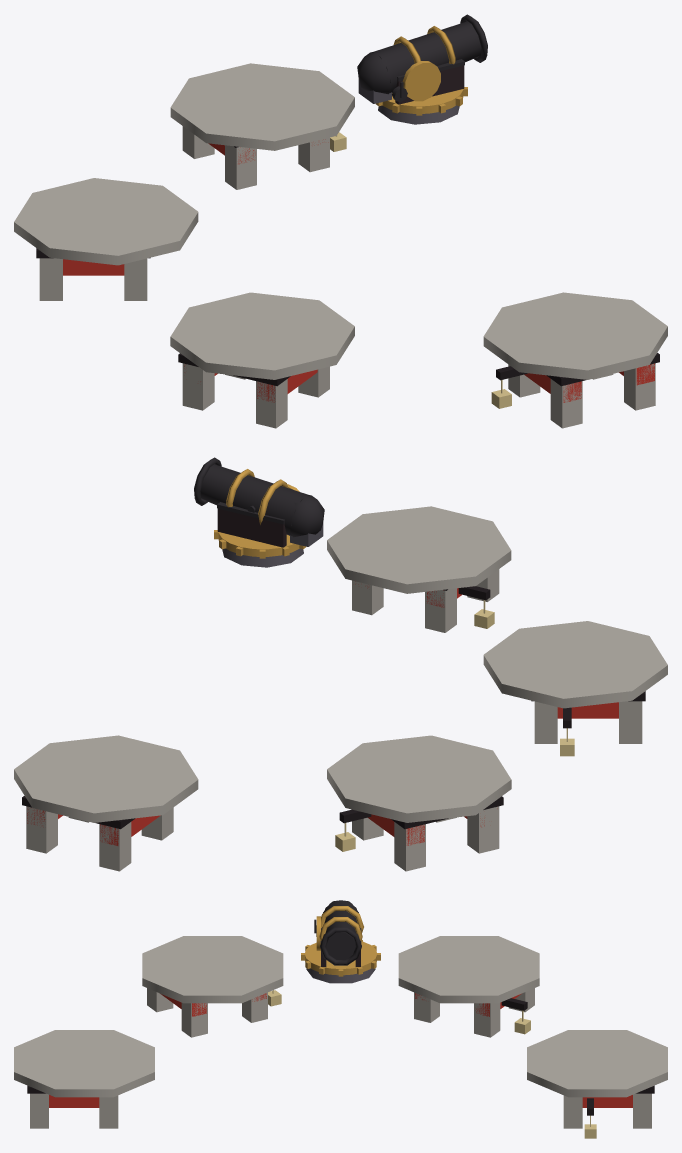
The model's file is base_builder_weapon_3.glb.
The picture shows the model from 3 angles, top to bottom: view 1: azimuth 30°, elevation 25°; view 2: azimuth 150°, elevation 25°; view 3: azimuth 270°, elevation 25°; orthographic projection. The views are drawn at different scales.
Visible parts, largest first — view 1: tower_slot_2_plate, tower_slot_4_plate, tower_slot_1_plate, tower_slot_3_plate, barrel_body, tower_slot_4_pier_0, tower_slot_2_pier_1, tower_slot_2_pier_0, tower_slot_3_pier_3, gear_elevation, tower_slot_4_pier_1, barrel_breech (+10 smaller); view 2: tower_slot_1_plate, tower_slot_3_plate, tower_slot_2_plate, tower_slot_4_plate, barrel_body, carriage_cheek_r, tower_slot_3_pier_1, tower_slot_1_pier_0, tower_slot_1_pier_1, tower_slot_3_pier_0, tower_slot_4_pier_2, barrel (+9 smaller); view 3: tower_slot_1_plate, tower_slot_2_plate, tower_slot_3_plate, tower_slot_4_plate, barrel, barrel_body, weapon_mount_ring, tower_slot_1_pier_2, tower_slot_2_pier_3, tower_slot_3_pier_0, tower_slot_4_pier_1, tower_slot_3_pier_2 (+7 smaller).
Part boxes in pixels (x1=…): tower_slot_2_plate: x1=170, y1=292, x2=354, y2=379; tower_slot_4_plate: x1=483, y1=292, x2=667, y2=379; tower_slot_1_plate: x1=14, y1=178, x2=198, y2=265; tower_slot_3_plate: x1=170, y1=63, x2=354, y2=150; barrel_body: x1=372, y1=21, x2=481, y2=93; tower_slot_4_pier_0: x1=550, y1=379, x2=582, y2=428; tower_slot_2_pier_1: x1=256, y1=379, x2=287, y2=428; tower_slot_2_pier_0: x1=182, y1=363, x2=214, y2=410; tower_slot_3_pier_3: x1=225, y1=145, x2=256, y2=189; gear_elevation: x1=402, y1=61, x2=440, y2=101; tower_slot_4_pier_1: x1=624, y1=363, x2=655, y2=410; barrel_breech: x1=357, y1=52, x2=392, y2=94; tower_slot_1_plate: x1=327, y1=735, x2=511, y2=822; tower_slot_3_plate: x1=14, y1=735, x2=198, y2=822; tower_slot_2_plate: x1=483, y1=621, x2=667, y2=708; tower_slot_4_plate: x1=327, y1=506, x2=511, y2=593; barrel_body: x1=200, y1=464, x2=309, y2=536; carriage_cheek_r: x1=217, y1=508, x2=286, y2=547; tower_slot_3_pier_1: x1=99, y1=822, x2=131, y2=871; tower_slot_1_pier_0: x1=394, y1=822, x2=425, y2=871; tower_slot_1_pier_1: x1=467, y1=806, x2=499, y2=853; tower_slot_3_pier_0: x1=26, y1=806, x2=57, y2=853; tower_slot_4_pier_2: x1=425, y1=588, x2=456, y2=632; barrel: x1=194, y1=457, x2=288, y2=524; tower_slot_1_plate: x1=398, y1=936, x2=539, y2=1003; tower_slot_2_plate: x1=142, y1=936, x2=283, y2=1003; tower_slot_3_plate: x1=527, y1=1030, x2=667, y2=1097; tower_slot_4_plate: x1=14, y1=1030, x2=154, y2=1097; barrel: x1=319, y1=906, x2=363, y2=965; barrel_body: x1=324, y1=901, x2=357, y2=959; weapon_mount_ring: x1=304, y1=941, x2=377, y2=975; tower_slot_1_pier_2: x1=474, y1=1003, x2=500, y2=1037; tower_slot_2_pier_3: x1=181, y1=1003, x2=207, y2=1037; tower_slot_3_pier_0: x1=633, y1=1093, x2=651, y2=1128; tower_slot_4_pier_1: x1=30, y1=1093, x2=48, y2=1128; tower_slot_3_pier_2: x1=563, y1=1095, x2=582, y2=1128.
Bounding box in the file's own units: 1.06 × 0.6476 × 1.89.
